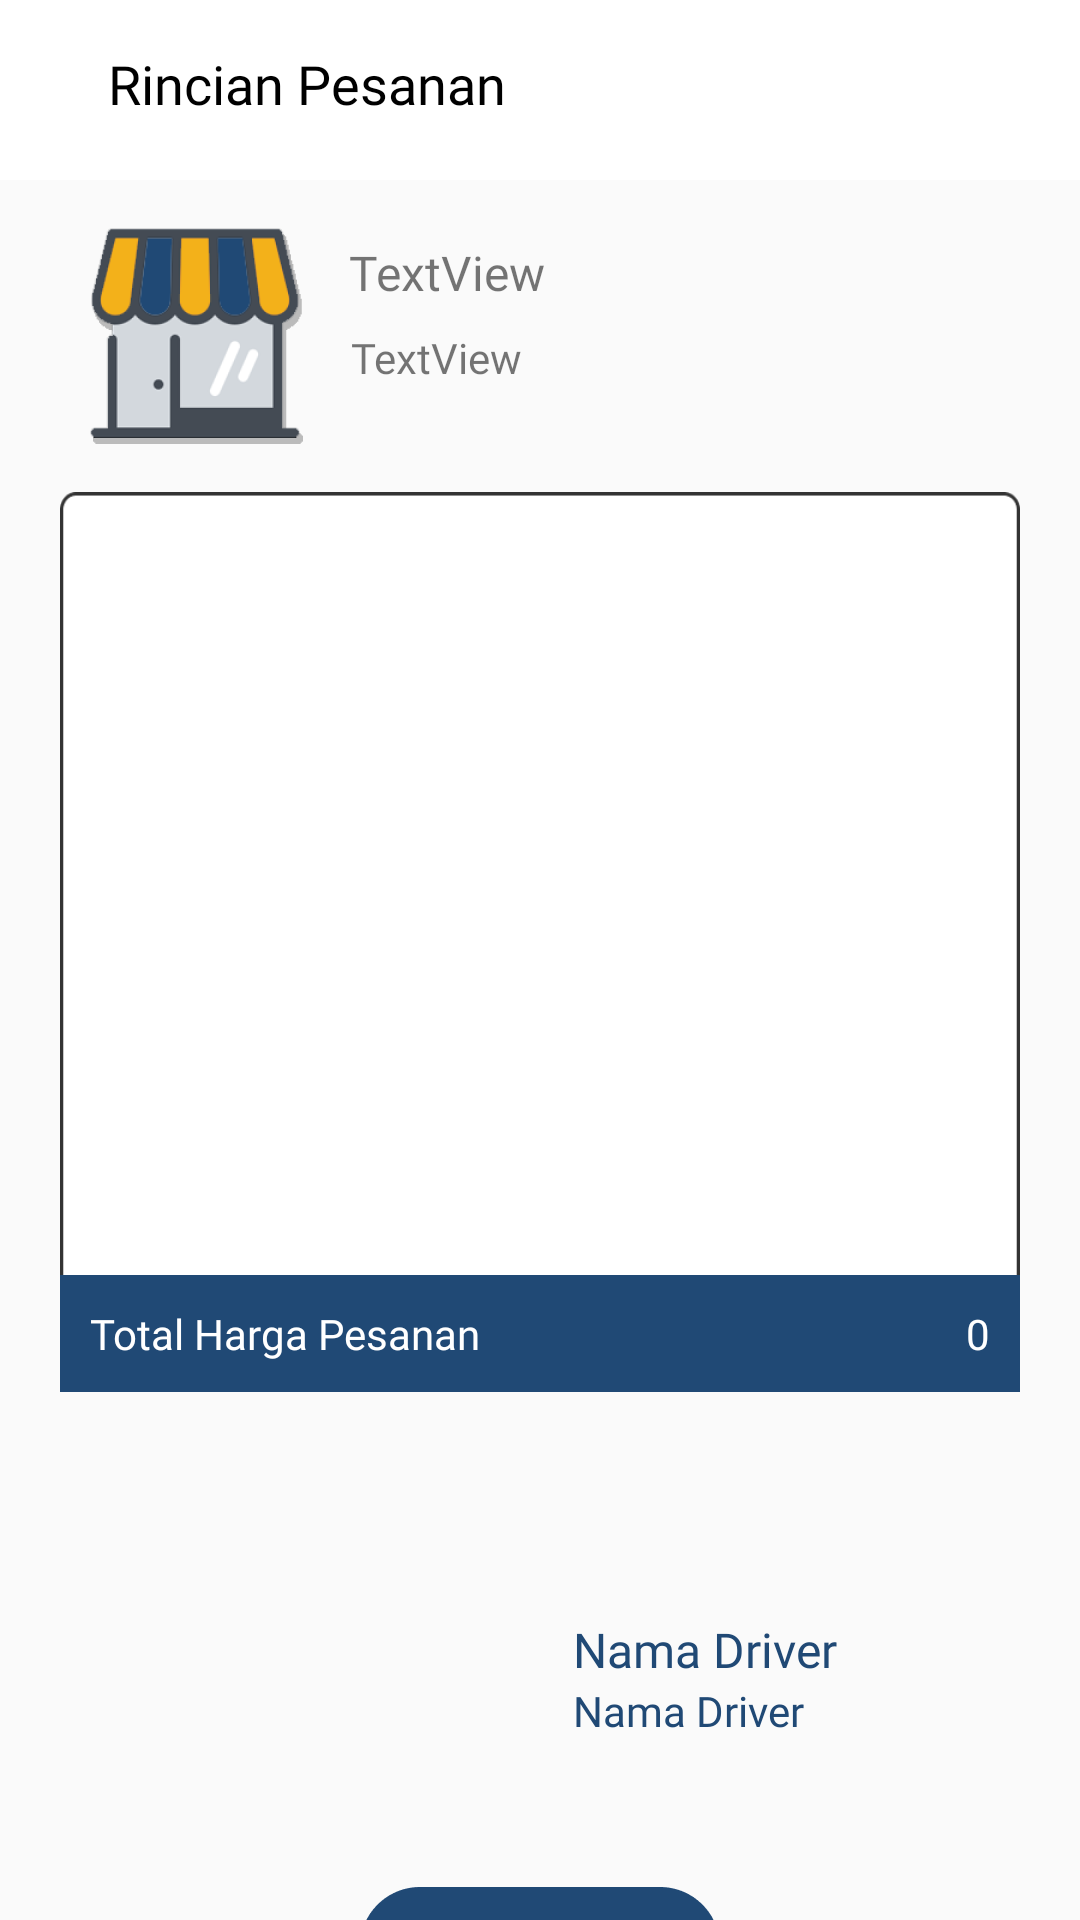

Where icons sit on this 1080 x 1920 app screen, as bbox(x1, y1, x2, y2):
warung: bbox(90, 228, 303, 444)
